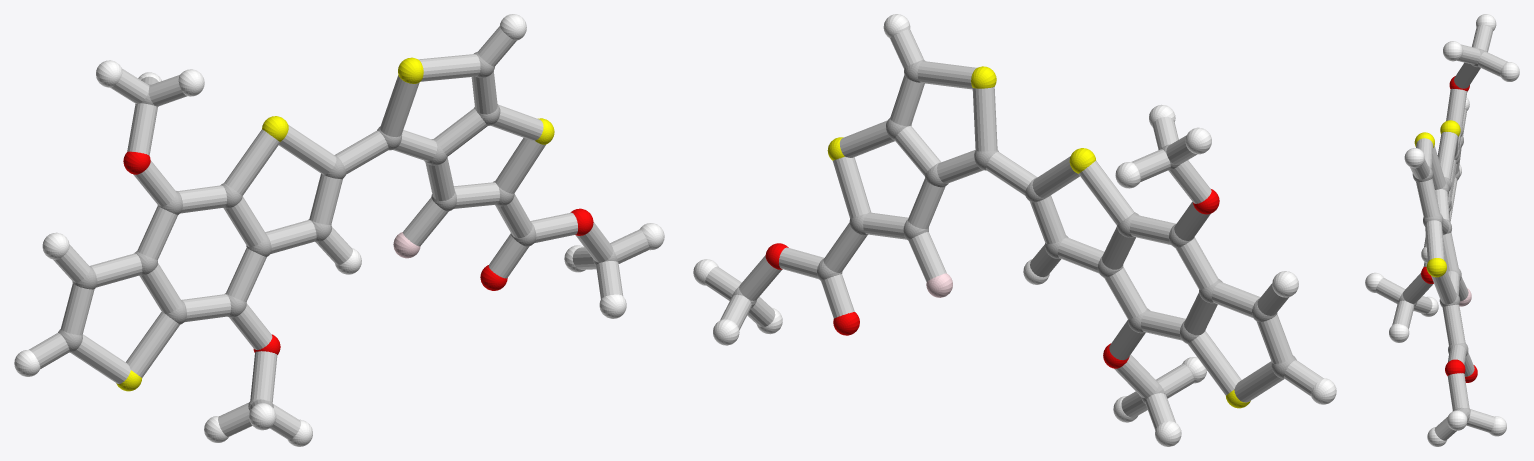
The model's file is color.glb.
3 views of the same model, side by side, from view 1: azimuth 30°, elevation 25°; view 2: azimuth 150°, elevation 25°; view 3: azimuth 270°, elevation 25° (orthographic). The views are drawn at different scales.
Parts seen in each view (by area): view 1: grp15205, grp8689, grp1, grp7241, grp13395; view 2: grp15205, grp8689, grp1, grp13395, grp7241; view 3: grp15205, grp8689, grp1, grp7241, grp13395.
Part boxes in pixels (box(x1,y1,x2,y2)): grp15205: box(29, 26, 649, 439); grp8689: box(14, 14, 664, 446); grp1: box(58, 52, 617, 409); grp7241: box(116, 57, 554, 391); grp13395: box(123, 151, 593, 354); grp15205: box(705, 29, 1322, 429); grp8689: box(693, 14, 1336, 446); grp1: box(732, 60, 1296, 403); grp13395: box(765, 189, 1219, 368); grp7241: box(827, 66, 1250, 408); grp15205: box(1375, 25, 1507, 440); grp8689: box(1365, 14, 1519, 446); grp1: box(1398, 48, 1485, 415); grp7241: box(1414, 120, 1460, 277); grp13395: box(1421, 76, 1477, 382).
Bounding box in the file's own units: 16.48 × 9.05 × 4.54.
